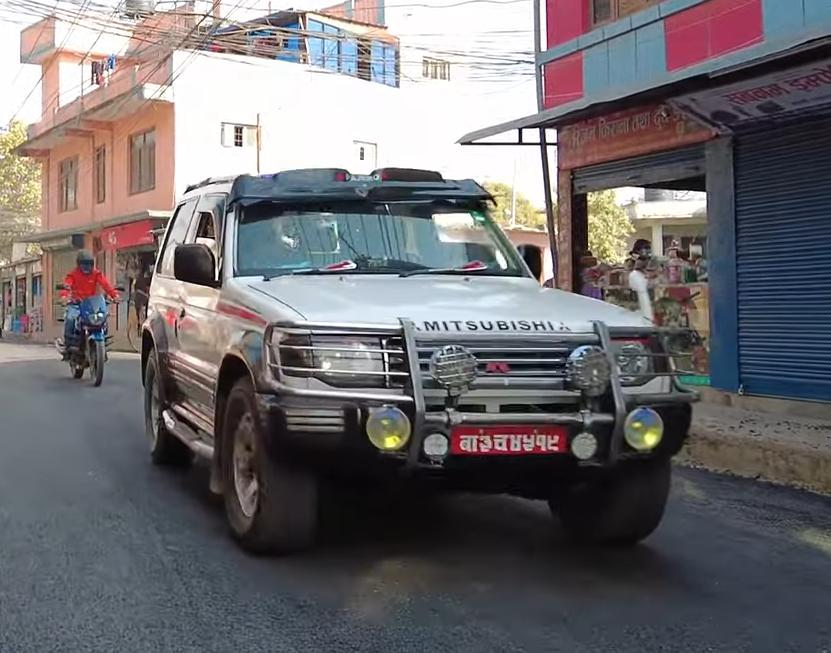SUV: (131, 148, 701, 558)
bike: (49, 279, 125, 390)
